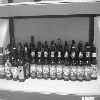beer: (41, 51, 50, 83)
